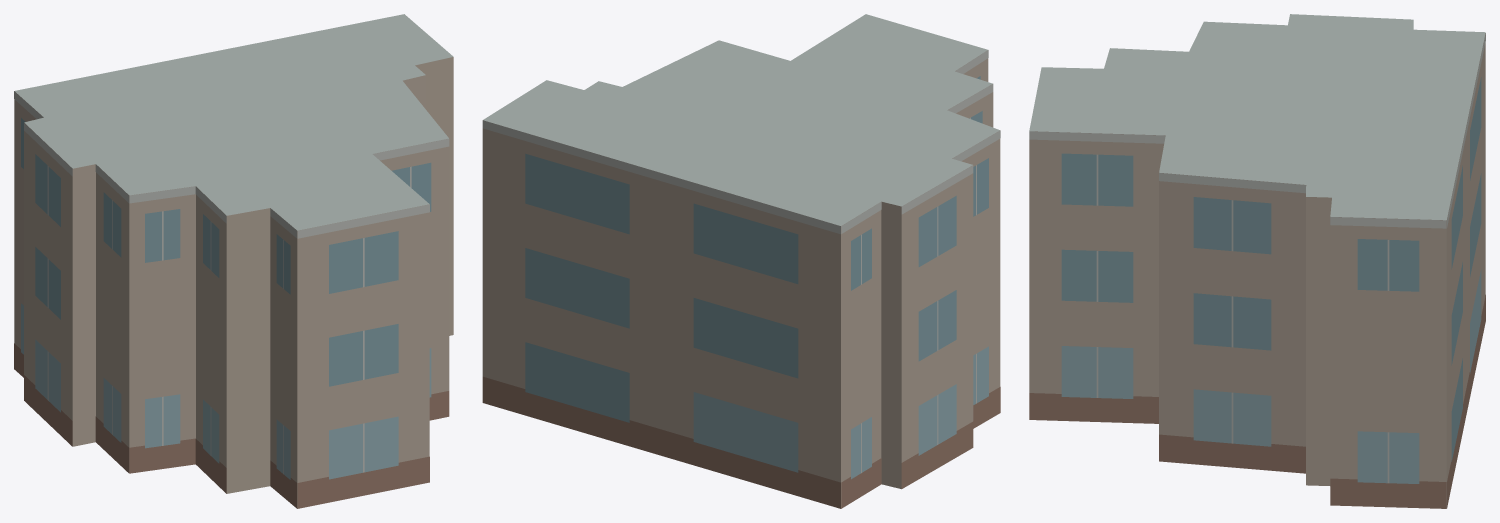
Rendered from survey-upis-32958959.glb.
3 views of the same model, side by side, from view 1: azimuth 30°, elevation 25°; view 2: azimuth 150°, elevation 25°; view 3: azimuth 270°, elevation 25° (orthographic). The views are drawn at different scales.
Parts seen in each view (by area): view 1: survey-upis-32958959.tmp; view 2: survey-upis-32958959.tmp; view 3: survey-upis-32958959.tmp.
Boxes of the visible parts, box(x1,y1,x2,y2) form: survey-upis-32958959.tmp: box(14, 14, 453, 508); survey-upis-32958959.tmp: box(482, 14, 1000, 508); survey-upis-32958959.tmp: box(1029, 14, 1485, 508).
Bounding box in the file's own units: 12.88 × 8.4 × 12.05.
